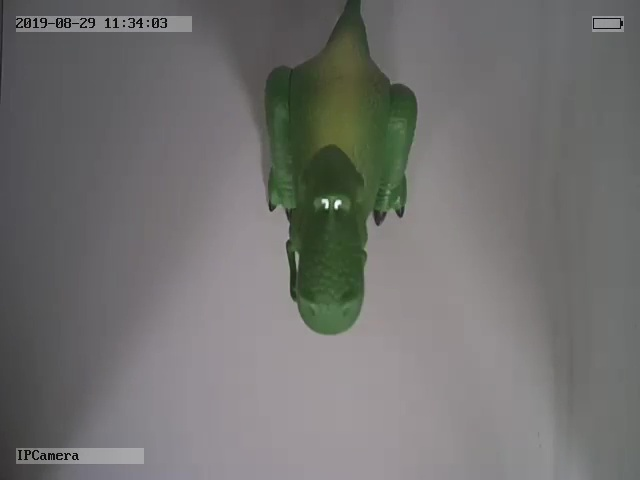rex: (261, 3, 417, 337)
